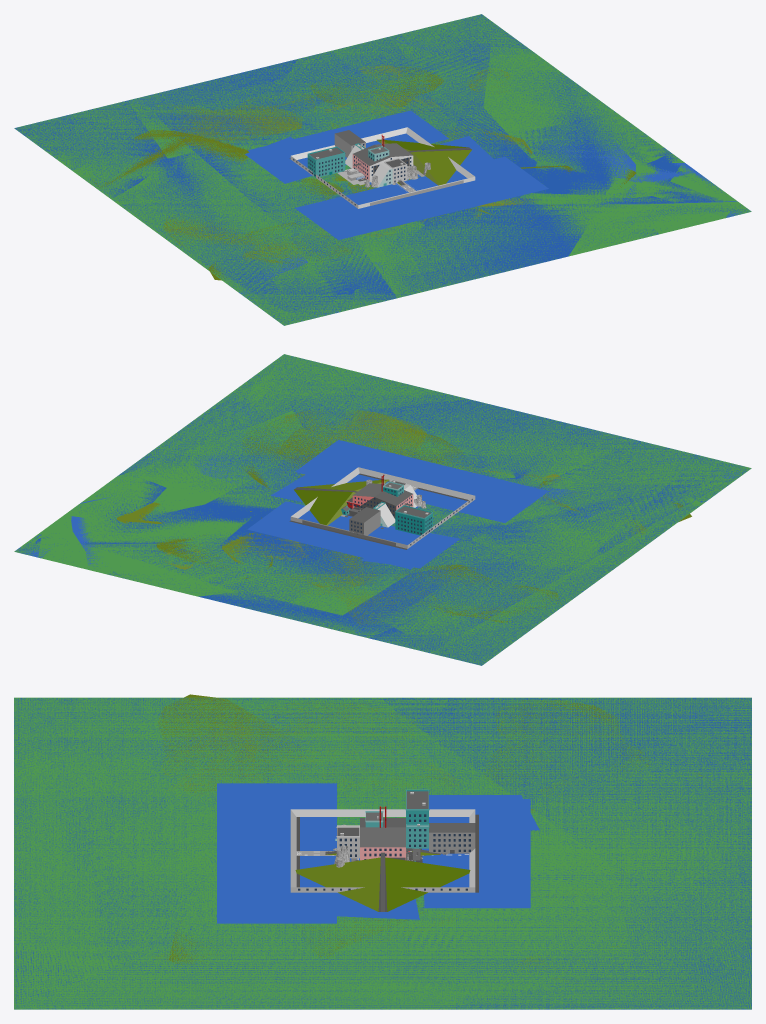
Rendered from gulf_of_finland.glb.
3 renders of one model, top to bottom at view 1: azimuth 30°, elevation 25°; view 2: azimuth 150°, elevation 25°; view 3: azimuth 270°, elevation 25°, orthographic. The views are drawn at different scales.
Visible parts, largest first — view 1: gulf_of_finland_134_lod0, gulf_of_finland_138_lod0, gulf_of_finland_131_lod0, gulf_of_finland_000_lod0, gulf_of_finland_143_lod0, gulf_of_finland_097_lod0_s1v0, gulf_of_finland_128_lod0, gulf_of_finland_136_lod0, gulf_of_finland_129_lod0, gulf_of_finland_130_lod0, gulf_of_finland_141_lod0, gulf_of_finland_155_lod0 (+27 smaller); view 2: gulf_of_finland_000_lod0, gulf_of_finland_129_lod0, gulf_of_finland_128_lod0, gulf_of_finland_131_lod0, gulf_of_finland_134_lod0, gulf_of_finland_141_lod0, gulf_of_finland_138_lod0, gulf_of_finland_097_lod0_s1v0, gulf_of_finland_139_lod0, gulf_of_finland_148_lod0, gulf_of_finland_163_lod0, gulf_of_finland_136_lod0 (+33 smaller); view 3: gulf_of_finland_000_lod0, gulf_of_finland_128_lod0, gulf_of_finland_133_lod0, gulf_of_finland_130_lod0, gulf_of_finland_129_lod0, gulf_of_finland_097_lod0_s1v0, gulf_of_finland_138_lod0, gulf_of_finland_155_lod0, gulf_of_finland_148_lod0, gulf_of_finland_095_lod0_s1v0, gulf_of_finland_157_lod0, gulf_of_finland_132_lod0 (+29 smaller).
Part boxes in pixels (bbox=[...]): gulf_of_finland_134_lod0: bbox=[21, 14, 745, 321]; gulf_of_finland_138_lod0: bbox=[29, 17, 738, 318]; gulf_of_finland_131_lod0: bbox=[15, 16, 749, 323]; gulf_of_finland_000_lod0: bbox=[15, 14, 751, 325]; gulf_of_finland_143_lod0: bbox=[46, 22, 708, 321]; gulf_of_finland_097_lod0_s1v0: bbox=[295, 156, 548, 239]; gulf_of_finland_128_lod0: bbox=[14, 14, 750, 324]; gulf_of_finland_136_lod0: bbox=[33, 19, 748, 319]; gulf_of_finland_129_lod0: bbox=[17, 16, 750, 324]; gulf_of_finland_130_lod0: bbox=[20, 17, 748, 325]; gulf_of_finland_141_lod0: bbox=[30, 86, 732, 323]; gulf_of_finland_155_lod0: bbox=[44, 37, 743, 301]; gulf_of_finland_000_lod0: bbox=[14, 354, 750, 665]; gulf_of_finland_129_lod0: bbox=[15, 355, 750, 665]; gulf_of_finland_128_lod0: bbox=[17, 354, 749, 665]; gulf_of_finland_131_lod0: bbox=[18, 355, 745, 665]; gulf_of_finland_134_lod0: bbox=[26, 358, 748, 661]; gulf_of_finland_141_lod0: bbox=[25, 364, 739, 659]; gulf_of_finland_138_lod0: bbox=[17, 355, 739, 661]; gulf_of_finland_097_lod0_s1v0: bbox=[295, 440, 548, 522]; gulf_of_finland_139_lod0: bbox=[17, 367, 735, 661]; gulf_of_finland_148_lod0: bbox=[16, 392, 744, 662]; gulf_of_finland_163_lod0: bbox=[90, 370, 738, 656]; gulf_of_finland_136_lod0: bbox=[24, 356, 741, 628]; gulf_of_finland_000_lod0: bbox=[14, 697, 751, 1009]; gulf_of_finland_128_lod0: bbox=[14, 698, 751, 1009]; gulf_of_finland_133_lod0: bbox=[14, 698, 751, 1008]; gulf_of_finland_130_lod0: bbox=[14, 698, 751, 1009]; gulf_of_finland_129_lod0: bbox=[14, 697, 751, 1009]; gulf_of_finland_097_lod0_s1v0: bbox=[217, 783, 336, 923]; gulf_of_finland_138_lod0: bbox=[14, 698, 751, 1009]; gulf_of_finland_155_lod0: bbox=[20, 699, 751, 1008]; gulf_of_finland_148_lod0: bbox=[14, 698, 751, 1008]; gulf_of_finland_095_lod0_s1v0: bbox=[340, 799, 530, 908]; gulf_of_finland_157_lod0: bbox=[24, 702, 751, 1004]; gulf_of_finland_132_lod0: bbox=[14, 699, 751, 1009].
Size of what is drawn, in the model's own units: 4139 by 290 by 4096.
